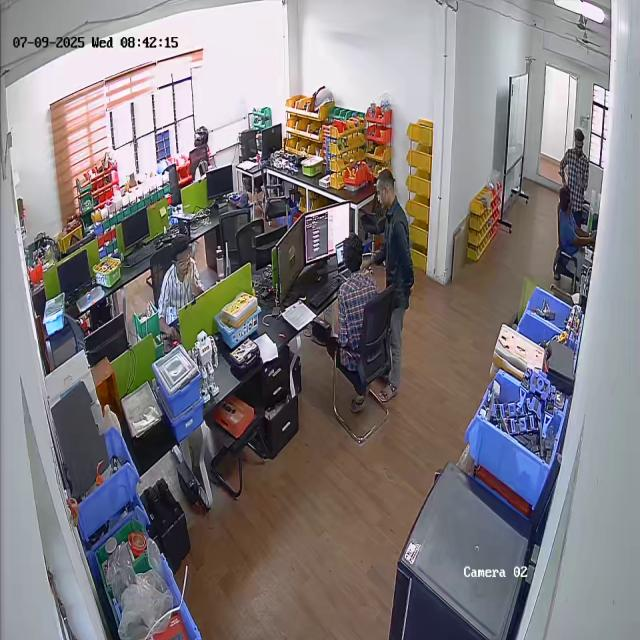person: (372, 170, 419, 410), (317, 231, 379, 375), (149, 232, 207, 322), (556, 188, 594, 260), (562, 124, 588, 225)
